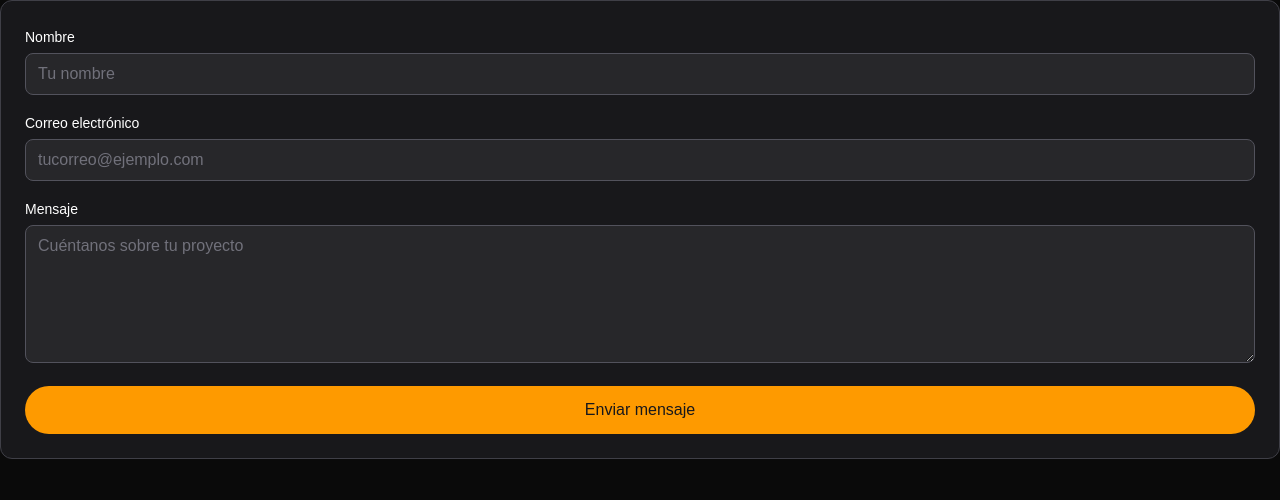
ContactForm (US11) › muestra error cuando el correo no es válido
Type "Ana" into the field labelled "Nombre" at (640, 74), box [25,53,1255,95]
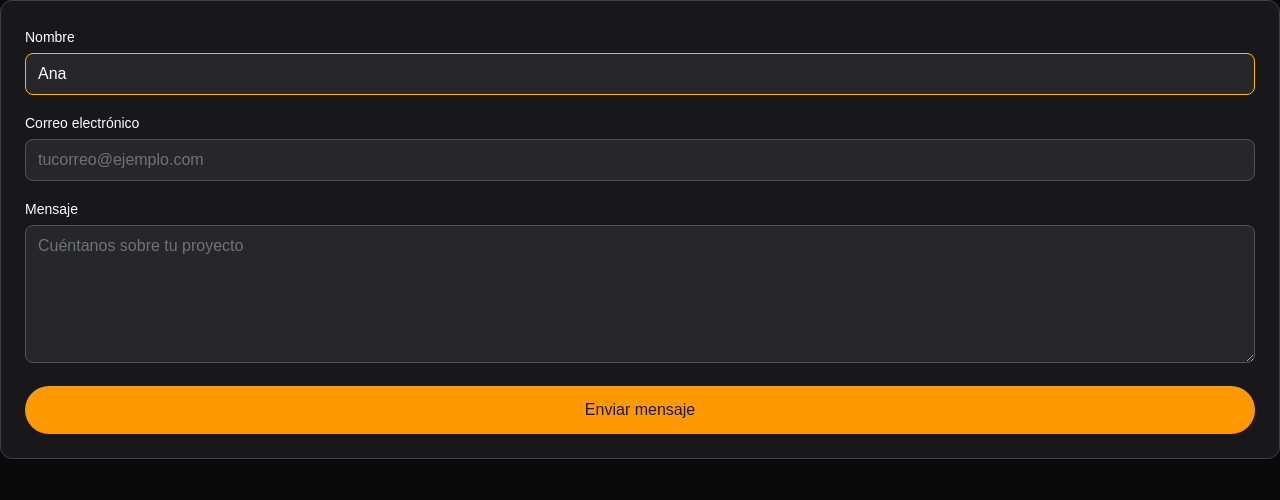
Type "correo-invalido" into the field labelled "Correo electrónico" at (640, 160), box [25,139,1255,181]
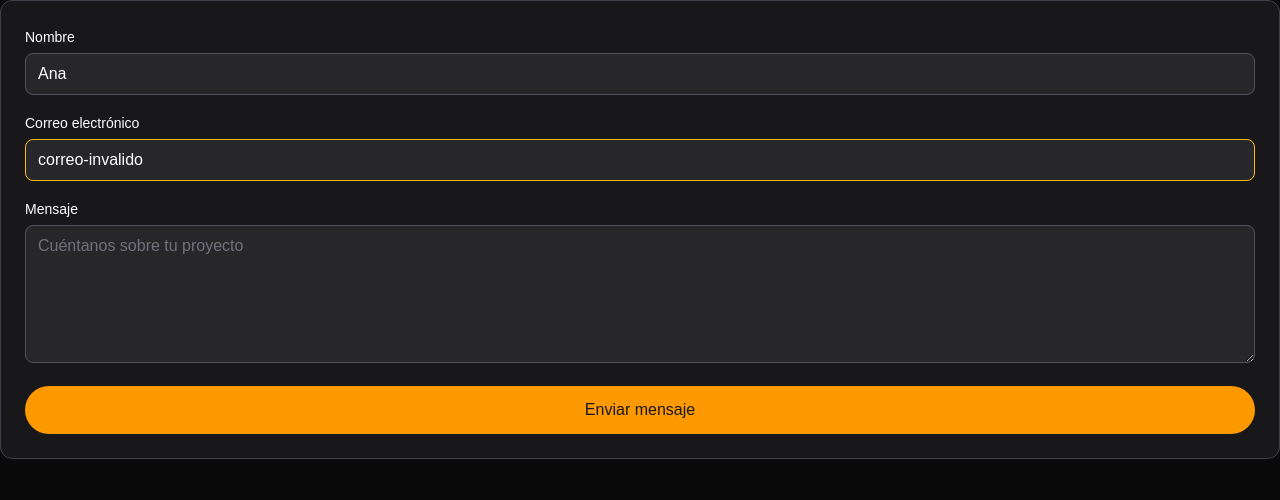
Type "Hola" into the text box labelled "Mensaje" at (640, 294), box [25,225,1255,363]
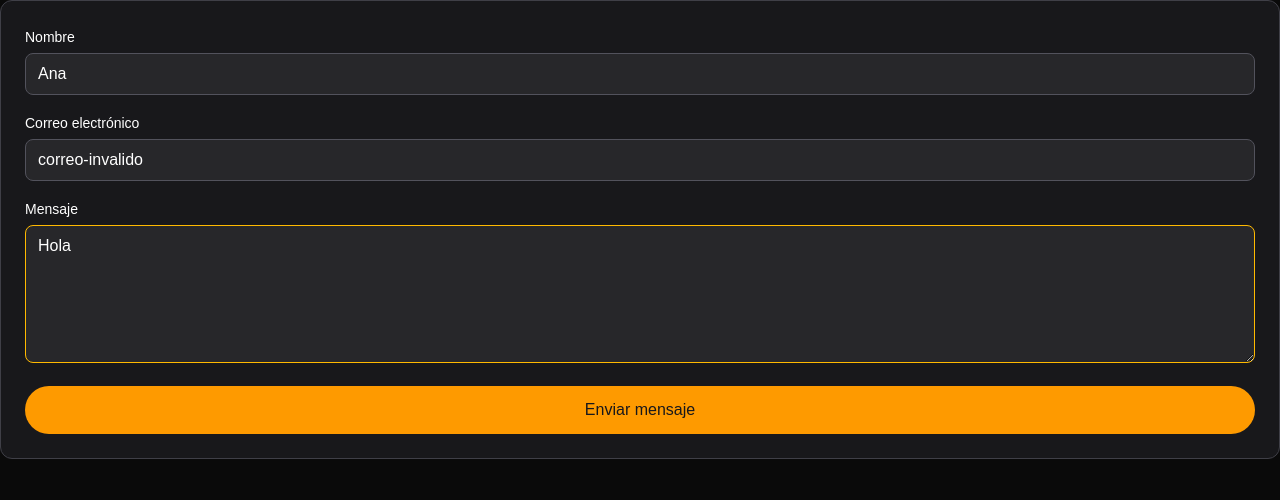
Click the button "Enviar mensaje" at (640, 410), box [25,386,1255,434]
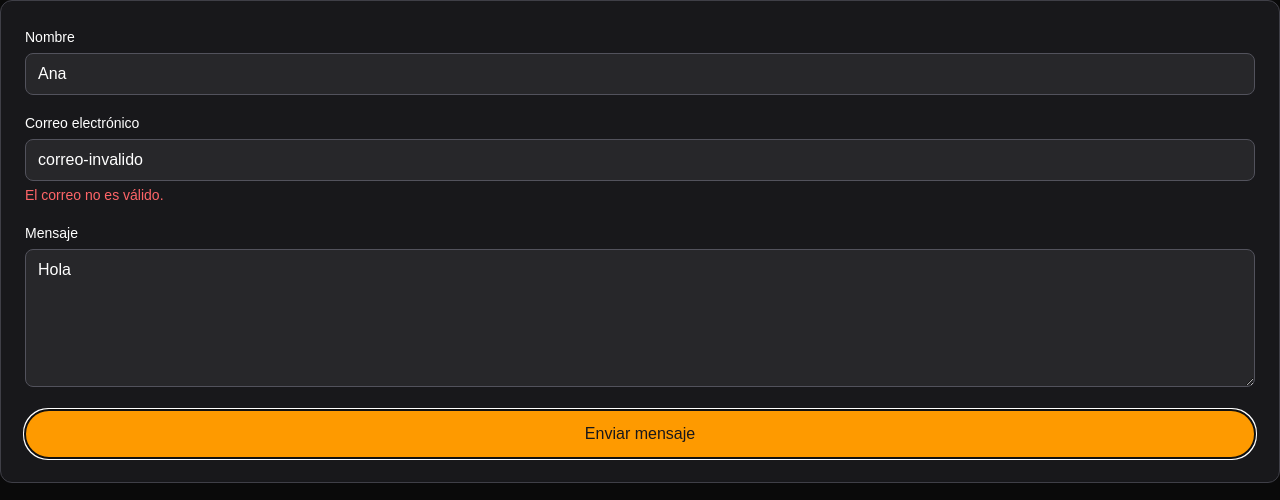
Now the text "El correo no es válido." is shown, box [25,187,164,203]
